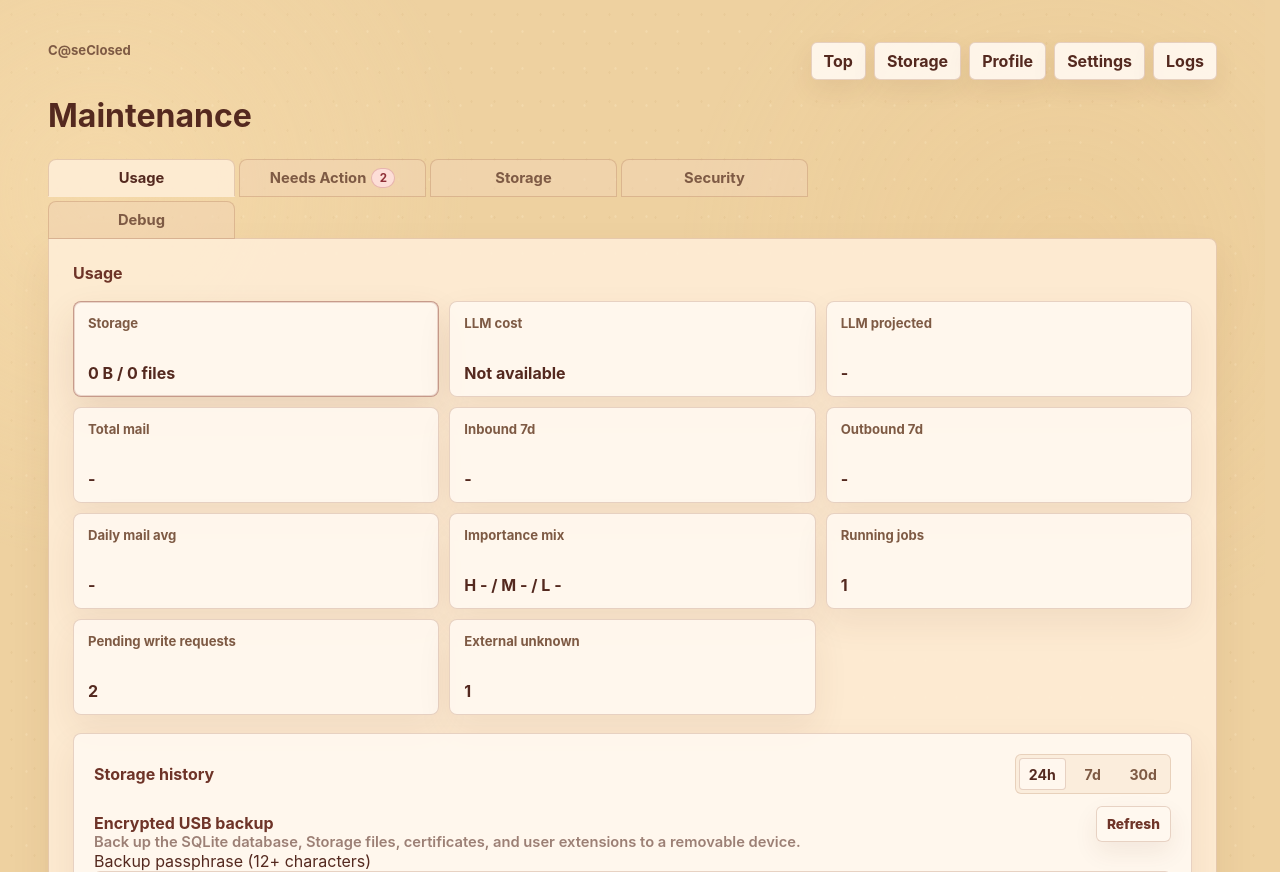
Test: Phase 2 maintenance screen › shows jobs and external operations that need maintenance attention
Expected: the heading "Maintenance" is shown, [48, 96, 252, 135]
Expected: the tab "Usage" is shown, [48, 159, 235, 197]
Click the tab "Needs Action 2" at point(332, 178), box [239, 159, 426, 197]
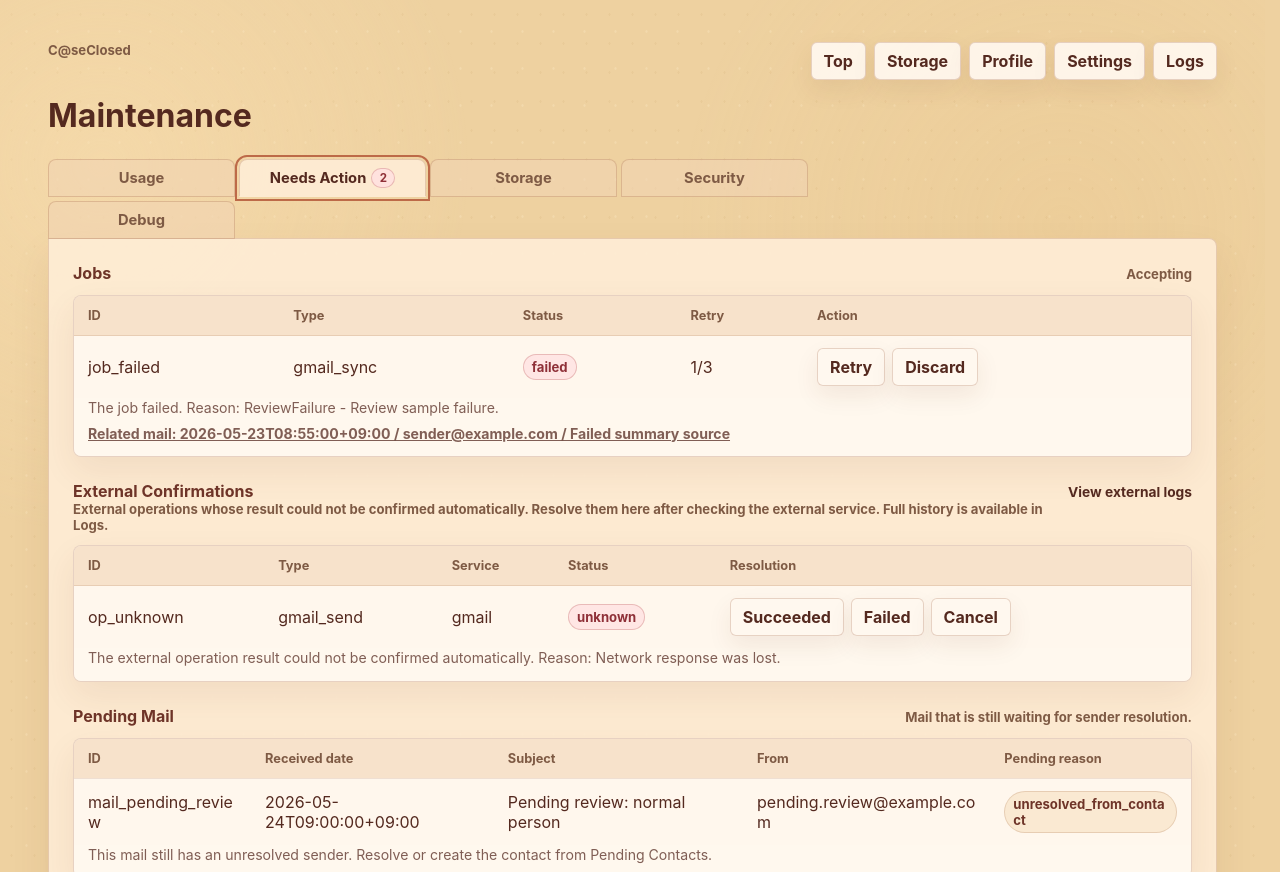
Result: the row "job_failed gmail_sync failed 1/3 Retry Discard" is shown at [74, 336, 1191, 398]
Result: the text "The job failed. Reason: ReviewFailure - Review sample failure." is shown at [88, 399, 499, 416]
Result: the button with aria-label "Retry job_failed" is shown at [817, 348, 885, 386]
